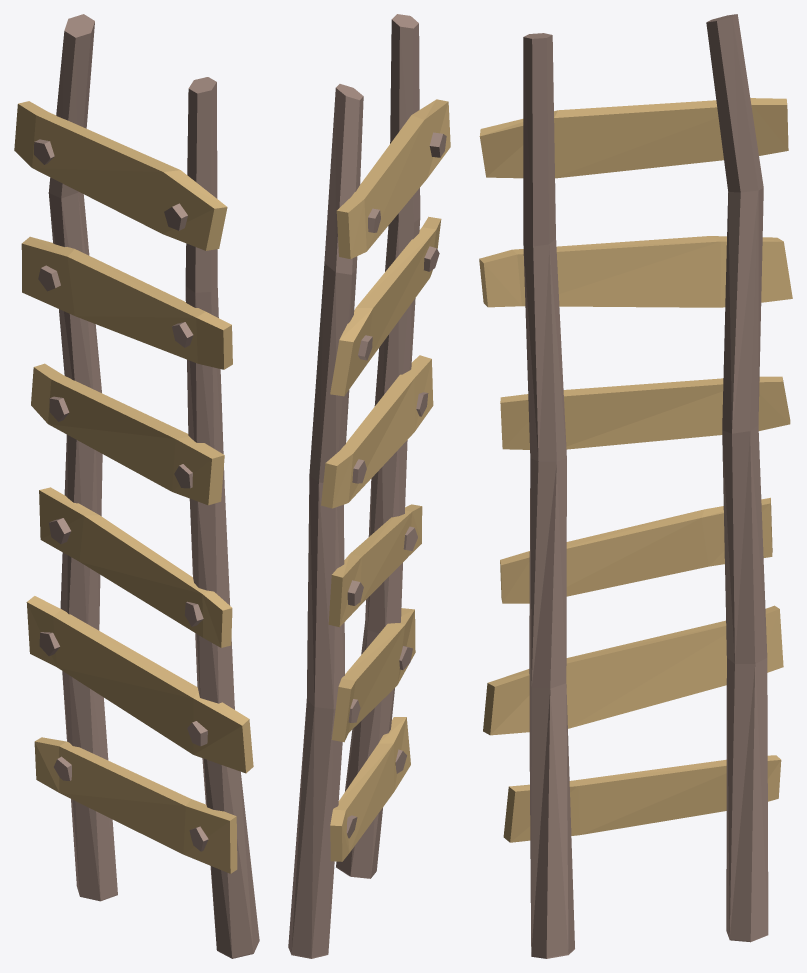
File: ladder.fbx
3 views of the same model, side by side, from view 1: azimuth 30°, elevation 25°; view 2: azimuth 150°, elevation 25°; view 3: azimuth 270°, elevation 25° (orthographic). The views are drawn at different scales.
Visible parts, largest first — view 1: group_2050458559; view 2: group_2050458559; view 3: group_2050458559.
Boxes of the visible parts, x1=… form: group_2050458559: x1=14, y1=14, x2=259, y2=958; group_2050458559: x1=288, y1=14, x2=450, y2=958; group_2050458559: x1=479, y1=14, x2=792, y2=958.
Size of the model in its own units: 12.79 by 83.49 by 26.15.
